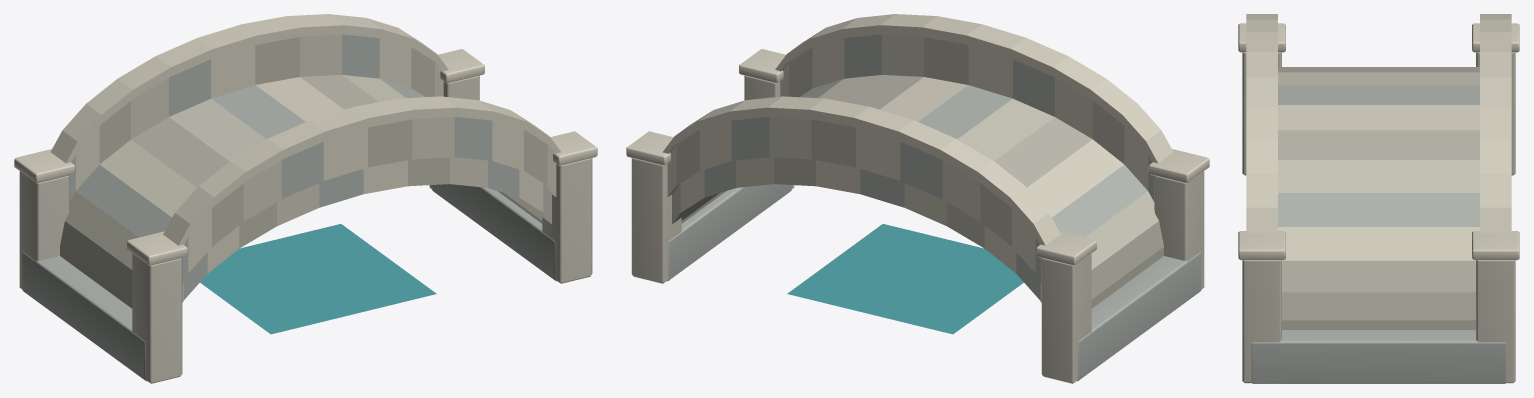
Rendered from stone_arch_bridge.glb.
The picture shows the model from 3 angles, left to right: view 1: azimuth 30°, elevation 25°; view 2: azimuth 150°, elevation 25°; view 3: azimuth 270°, elevation 25°; orthographic projection. The views are drawn at different scales.
Visible parts, largest first — view 1: water_clear_patch_under_arch, Bridge end footing, Bridge endpost, Bridge endpost.002, Bridge end footing.001, Arch deck voussoir_03, Arch deck voussoir_04, Arch deck voussoir_05, Bridge endpost.001, Arch deck voussoir_02, Arch deck voussoir_06, Arch deck voussoir_07 (+52 smaller); view 2: water_clear_patch_under_arch, Bridge end footing, Bridge endpost.001, Bridge endpost.003, Bridge end footing.001, Arch deck voussoir_03, Arch deck voussoir_04, Arch deck voussoir_05, Bridge endpost, Arch deck voussoir_02, Arch deck voussoir_06, Arch deck voussoir_07 (+52 smaller); view 3: Bridge end footing.001, Arch deck voussoir_13, Arch deck voussoir_10, Arch deck voussoir_09, Arch deck voussoir_11, Arch deck voussoir_12, Arch deck voussoir_08, Arch deck voussoir_07, Arch deck voussoir_06, Bridge endpost.002, Bridge endpost.003, Arch deck voussoir_05 (+23 smaller).
Part boxes in pixels (x1,y1,x2,y2): water_clear_patch_under_arch: (200,224,436,334); Bridge end footing: (22,252,146,381); Bridge endpost: (132,254,182,383); Bridge endpost.002: (542,158,592,283); Bridge end footing.001: (432,184,556,281); Arch deck voussoir_03: (100,139,239,273); Arch deck voussoir_04: (131,117,276,248); Arch deck voussoir_05: (169,99,319,225); Bridge endpost.001: (19,171,69,289); Arch deck voussoir_02: (76,164,207,299); Arch deck voussoir_06: (211,85,363,207); Arch deck voussoir_07: (256,77,407,193); water_clear_patch_under_arch: (787,224,1023,334); Bridge end footing: (1077,252,1201,381); Bridge endpost.001: (1041,254,1091,383); Bridge endpost.003: (631,158,681,283); Bridge end footing.001: (667,184,791,281); Arch deck voussoir_03: (984,139,1123,273); Arch deck voussoir_04: (947,117,1092,248); Arch deck voussoir_05: (904,99,1054,225); Bridge endpost: (1154,171,1204,289); Arch deck voussoir_02: (1016,164,1147,299); Arch deck voussoir_06: (860,85,1012,207); Arch deck voussoir_07: (816,77,967,193); Bridge end footing.001: (1251,330,1506,383); Arch deck voussoir_13: (1282,292,1475,329); Arch deck voussoir_10: (1278,193,1479,226); Arch deck voussoir_09: (1278,160,1479,192); Arch deck voussoir_11: (1278,227,1479,260); Arch deck voussoir_12: (1282,260,1475,292); Arch deck voussoir_08: (1278,130,1479,159); Arch deck voussoir_07: (1278,105,1479,130); Arch deck voussoir_06: (1278,85,1479,104); Bridge endpost.002: (1242,260,1281,383); Bridge endpost.003: (1476,260,1515,383); Arch deck voussoir_05: (1278,72,1479,85).
Bounding box in the file's own units: 4.06 × 1.83 × 2.12.
